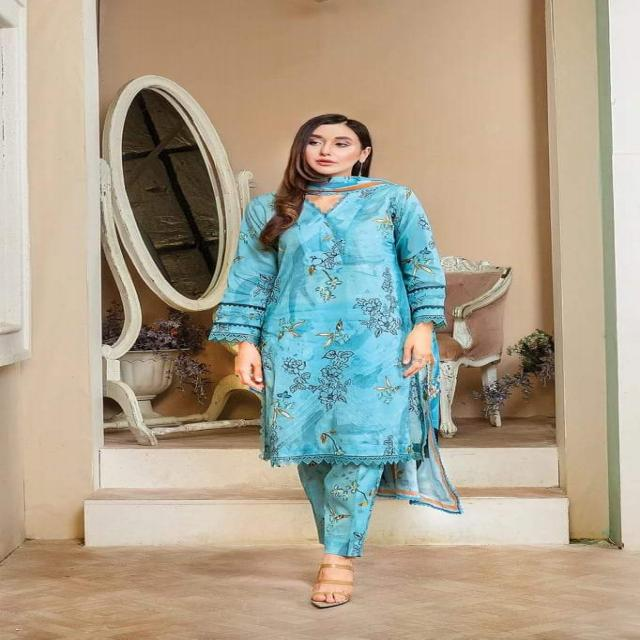female-dress: (203, 176, 493, 558)
